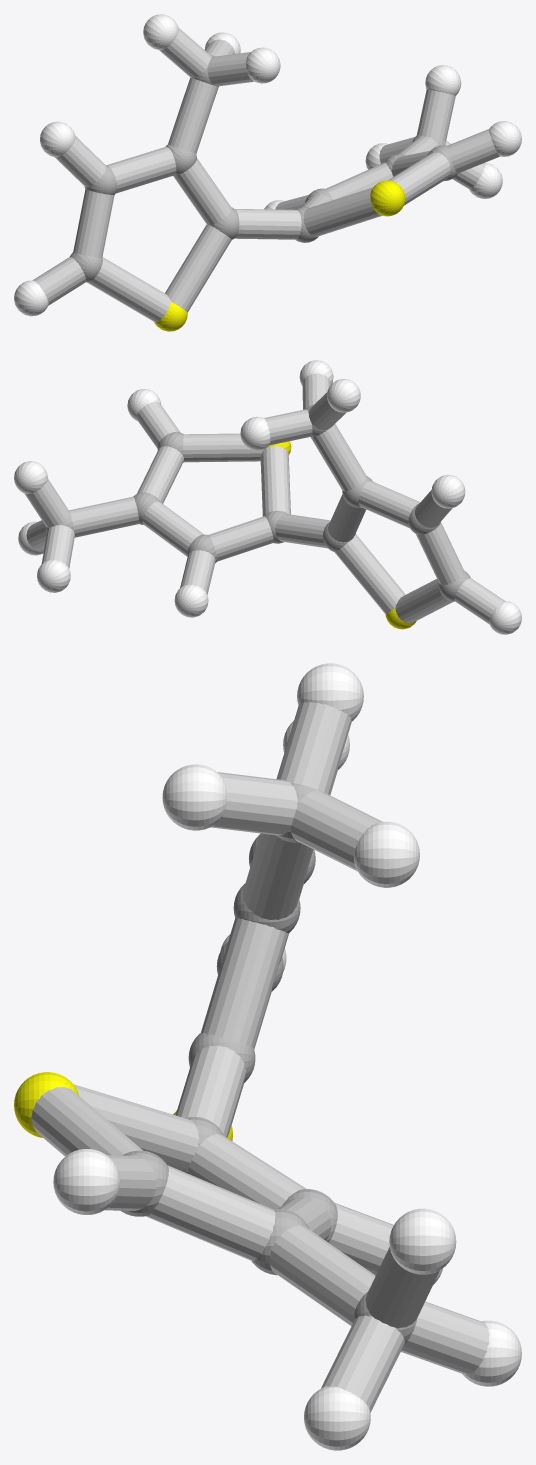
Rendered from Methylthiophene_Phi_25_Theta_80_Methylthiophene.glb.
3 views of the same model, one above another, from view 1: azimuth 30°, elevation 25°; view 2: azimuth 150°, elevation 25°; view 3: azimuth 270°, elevation 25° (orthographic). The views are drawn at different scales.
Parts seen in each view (by area): view 1: grp7965, grp3621, grp1, grp7241; view 2: grp7965, grp3621, grp1, grp7241; view 3: grp7965, grp3621, grp1, grp7241.
Boxes of the visible parts, x1=… form: grp7965: x1=33, y1=28, x2=499, y2=322; grp3621: x1=14, y1=14, x2=521, y2=316; grp1: x1=70, y1=55, x2=457, y2=282; grp7241: x1=154, y1=180, x2=405, y2=331; grp7965: x1=25, y1=373, x2=504, y2=624; grp3621: x1=14, y1=360, x2=521, y2=634; grp1: x1=45, y1=405, x2=470, y2=601; grp7241: x1=267, y1=441, x2=416, y2=629; grp7965: x1=31, y1=702, x2=489, y2=1412; grp3621: x1=53, y1=663, x2=521, y2=1450; grp1: x1=121, y1=782, x2=417, y2=1343; grp7241: x1=14, y1=1072, x2=232, y2=1140.
Bounding box in the file's own units: 9.74 × 5.17 × 4.55.
